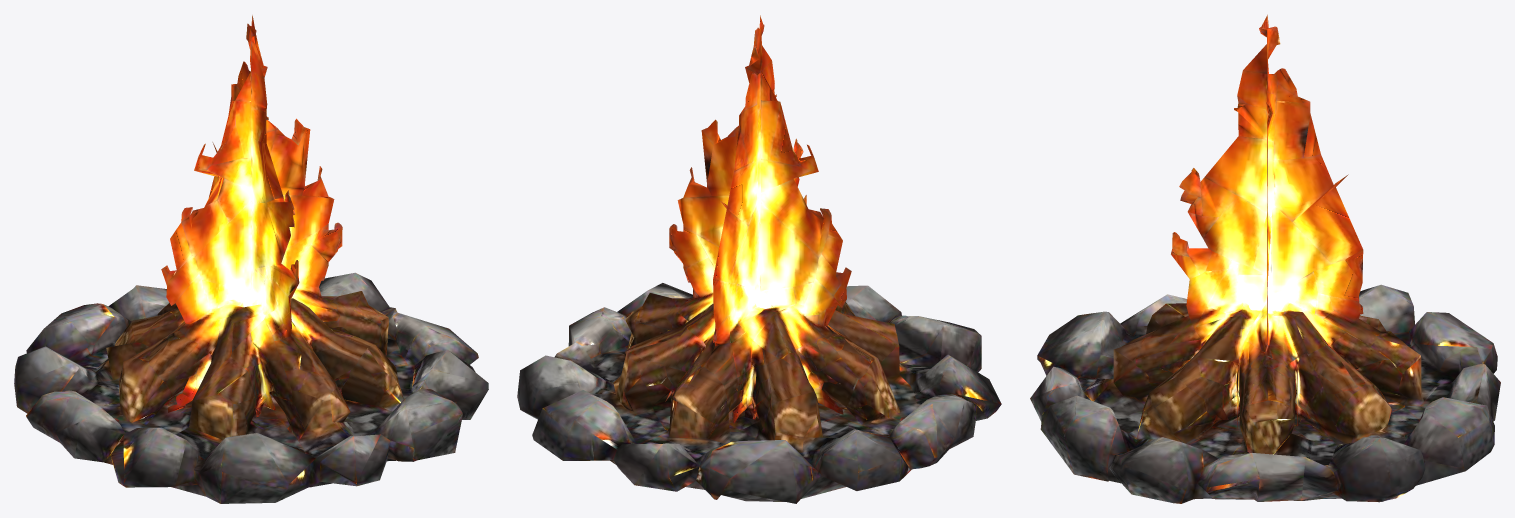
Rendered from Meshy_AI_Pixel_Campfire_0621211147_texture.glb.
3 renders of one model, left to right at view 1: azimuth 30°, elevation 25°; view 2: azimuth 150°, elevation 25°; view 3: azimuth 270°, elevation 25°, orthographic. The views are drawn at different scales.
Size of the model in its own units: 1.84 by 1.77 by 1.84.
1 material, 1 textured.
